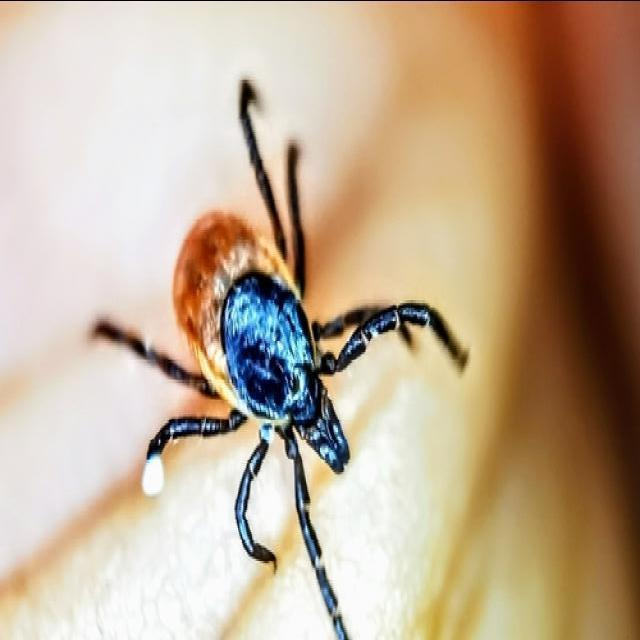Ixodes Ricinus-F: (90, 80, 471, 640)
